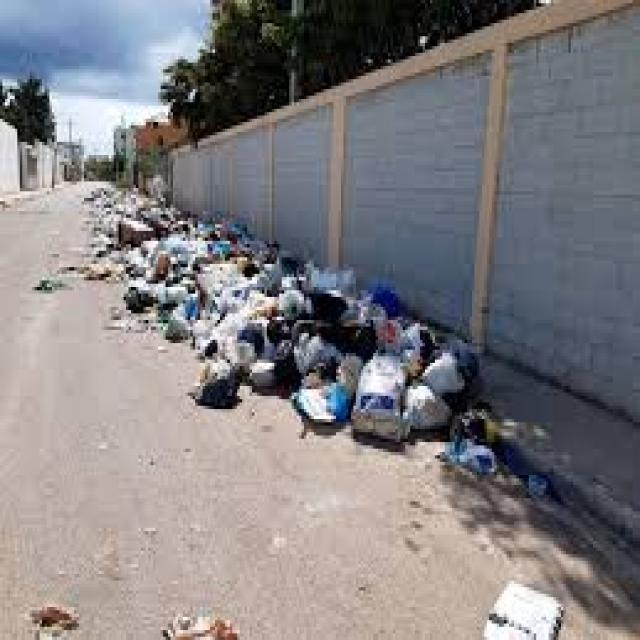garbage: (115, 184, 488, 432)
